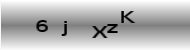6: (35, 19, 48, 32)
K: (120, 10, 136, 23)
X: (91, 24, 108, 38)
j: (60, 20, 68, 36)
z: (106, 22, 118, 33)
